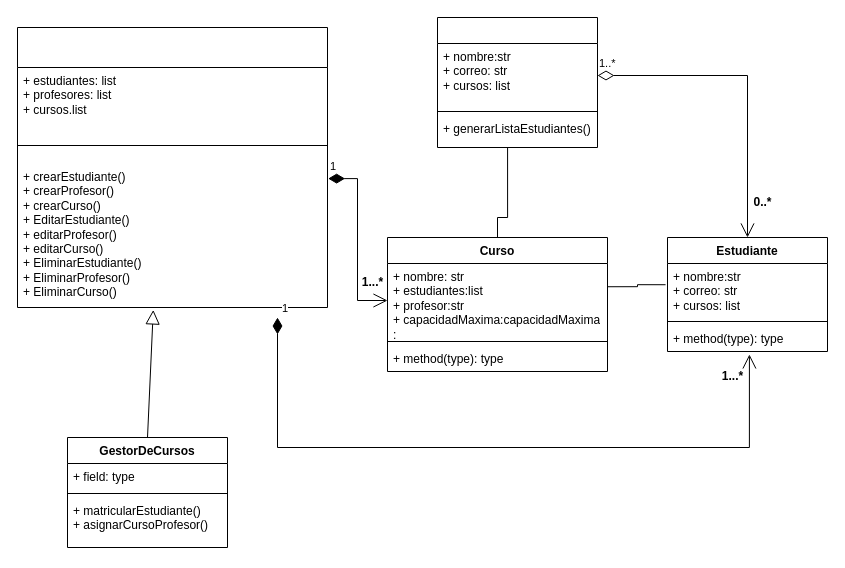
This 845x568 diagram has some shape labels left out. The shapes that lost their labels are listed below. From the top down, each one's box as (x1, y1, x2, y2) in pixels, then its label:
(436, 16, 598, 148): Profesor
(16, 26, 328, 308): Universidad
